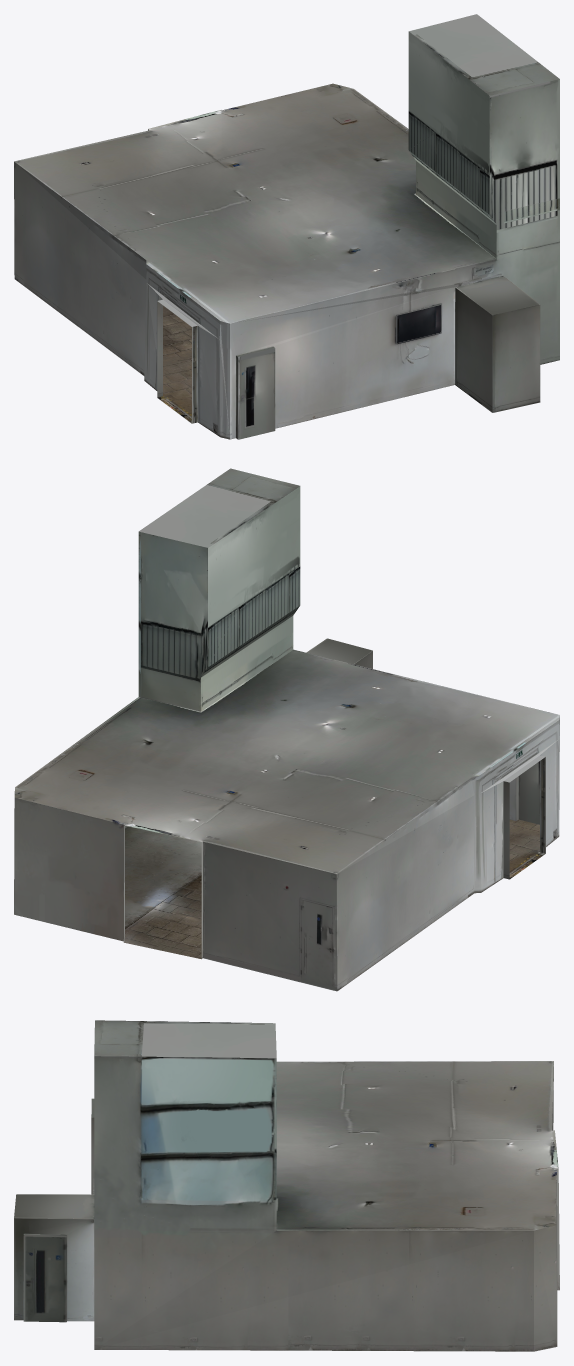
File: Main-top-leftLP.fbx
3 views of the same model, one above another, from view 1: azimuth 30°, elevation 25°; view 2: azimuth 150°, elevation 25°; view 3: azimuth 270°, elevation 25° (orthographic). The views are drawn at different scales.
Visible parts, largest first — view 1: Main-top-leftLP; view 2: Main-top-leftLP; view 3: Main-top-leftLP.
Part boxes in pixels (left/top/right/bottom): Main-top-leftLP: left=14, top=14, right=559, bottom=439; Main-top-leftLP: left=14, top=468, right=559, bottom=991; Main-top-leftLP: left=14, top=1020, right=559, bottom=1351.
Bounding box in the file's own units: 903 × 702 × 1183.
